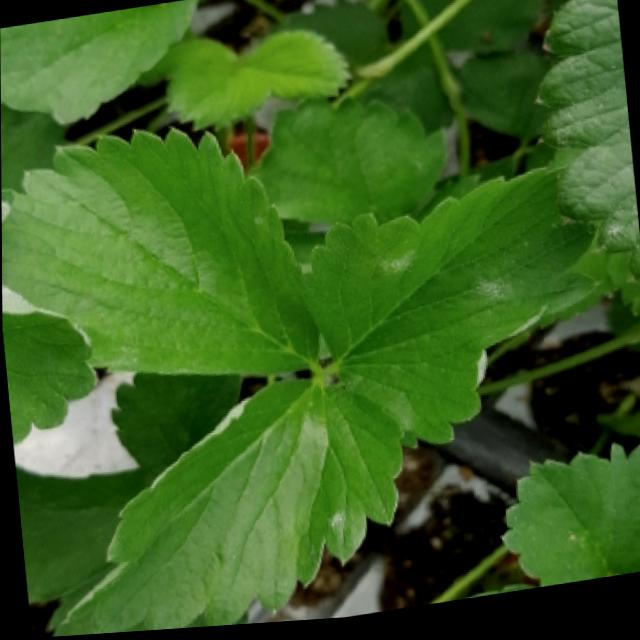Powdery Mildew Leaf: (55, 378, 407, 636), (297, 173, 601, 455), (536, 0, 640, 294), (2, 284, 100, 444)
